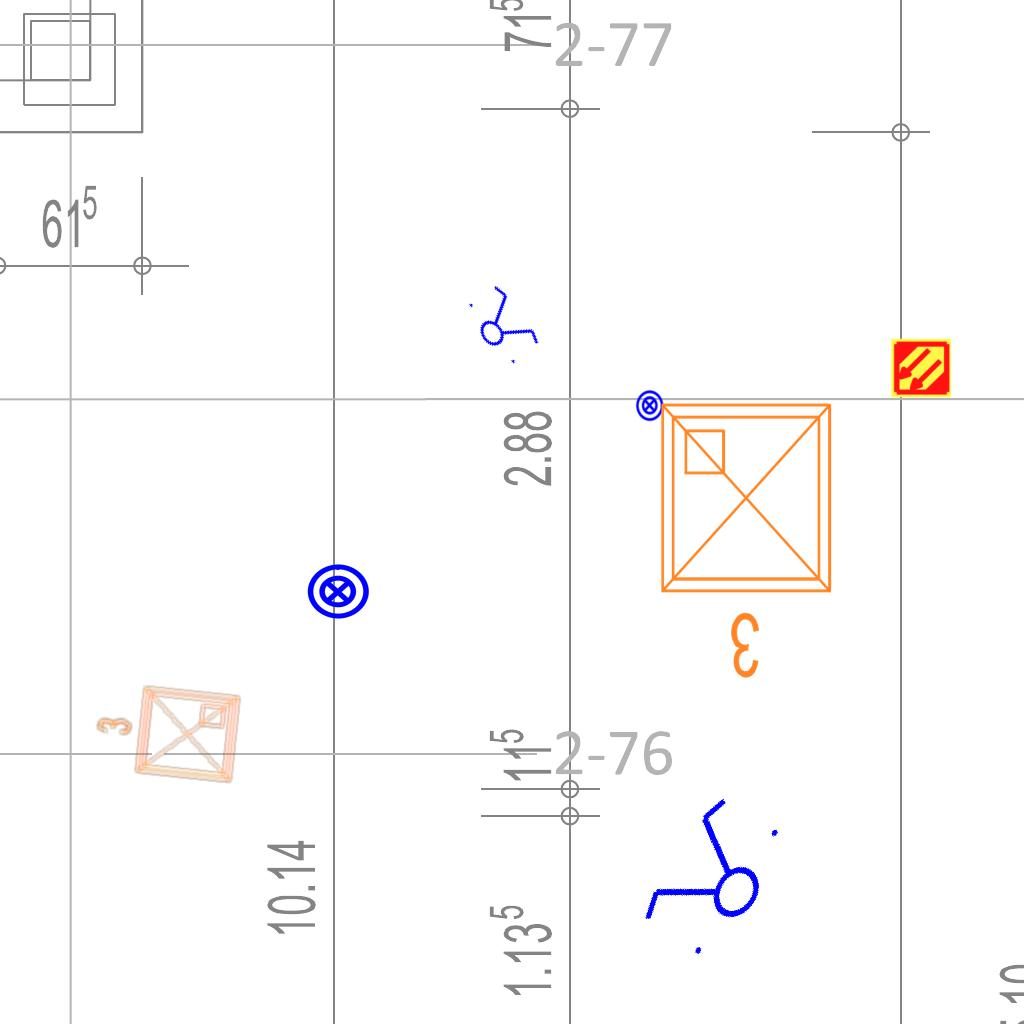ASR_Ansaugrauchmelder: (890, 337, 952, 399)
Einbaudownlights_LED_Konferenzraeume: (646, 389, 854, 689), (86, 674, 248, 794)
Serienschalter: (627, 782, 801, 976), (457, 277, 547, 373)
Taster_beleuchtet: (305, 559, 371, 625), (633, 389, 666, 422)
